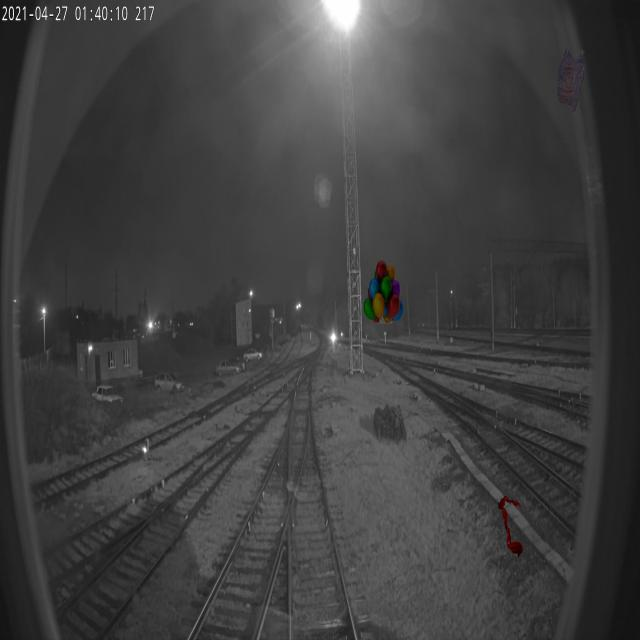balloon: (363, 260, 404, 324), (557, 48, 585, 112)
floating object: (498, 494, 523, 558)
